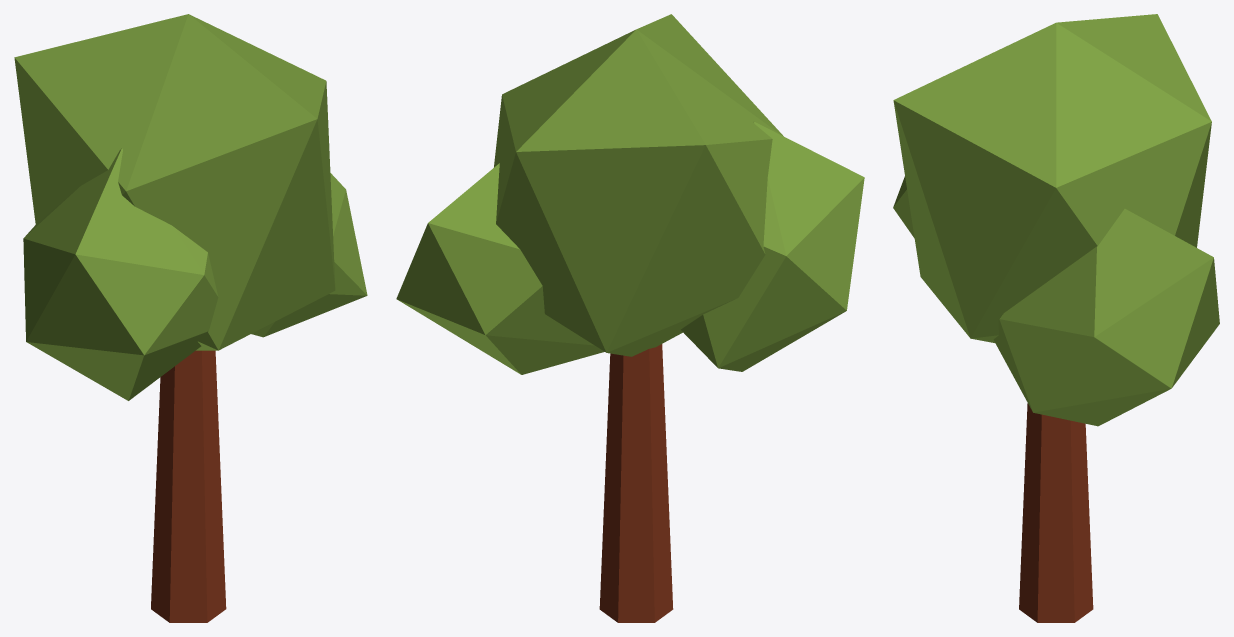
Rendered from bg_tree.fbx.
3 renders of one model, left to right at view 1: azimuth 30°, elevation 25°; view 2: azimuth 150°, elevation 25°; view 3: azimuth 270°, elevation 25°, orthographic. The views are drawn at different scales.
Parts seen in each view (by area): view 1: c_7A9E3E_SmoothPlastic, c_8A3B1E_SmoothPlastic; view 2: c_7A9E3E_SmoothPlastic, c_8A3B1E_SmoothPlastic; view 3: c_7A9E3E_SmoothPlastic, c_8A3B1E_SmoothPlastic.
Part boxes in pixels (x1,y1,x2,y2): c_7A9E3E_SmoothPlastic: [14, 14, 367, 400]; c_8A3B1E_SmoothPlastic: [151, 350, 226, 622]; c_7A9E3E_SmoothPlastic: [396, 14, 864, 374]; c_8A3B1E_SmoothPlastic: [599, 344, 673, 622]; c_7A9E3E_SmoothPlastic: [893, 14, 1219, 426]; c_8A3B1E_SmoothPlastic: [1019, 403, 1093, 622].
Size of the model in its own units: 10.39 by 15.67 by 7.91.
